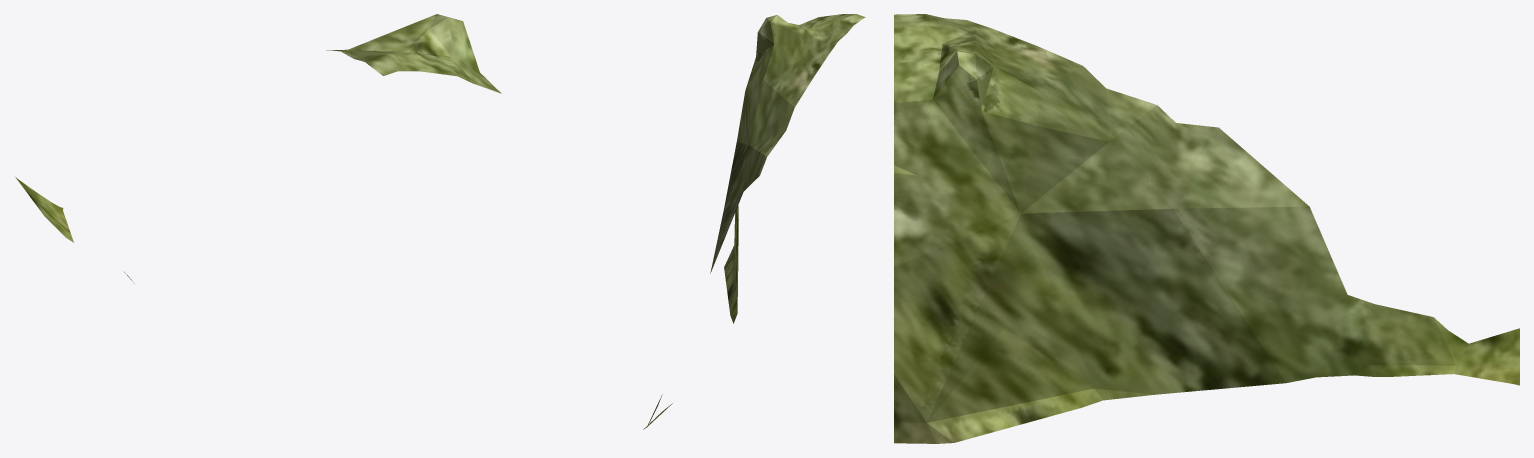
The picture shows the model from 3 angles, left to right: view 1: azimuth 30°, elevation 25°; view 2: azimuth 150°, elevation 25°; view 3: azimuth 270°, elevation 25°; orthographic projection. The views are drawn at different scales.
Bounding box in the file's own units: 0.876 × 1.85 × 2.95.
Materials: 1 (1 with a texture image).
